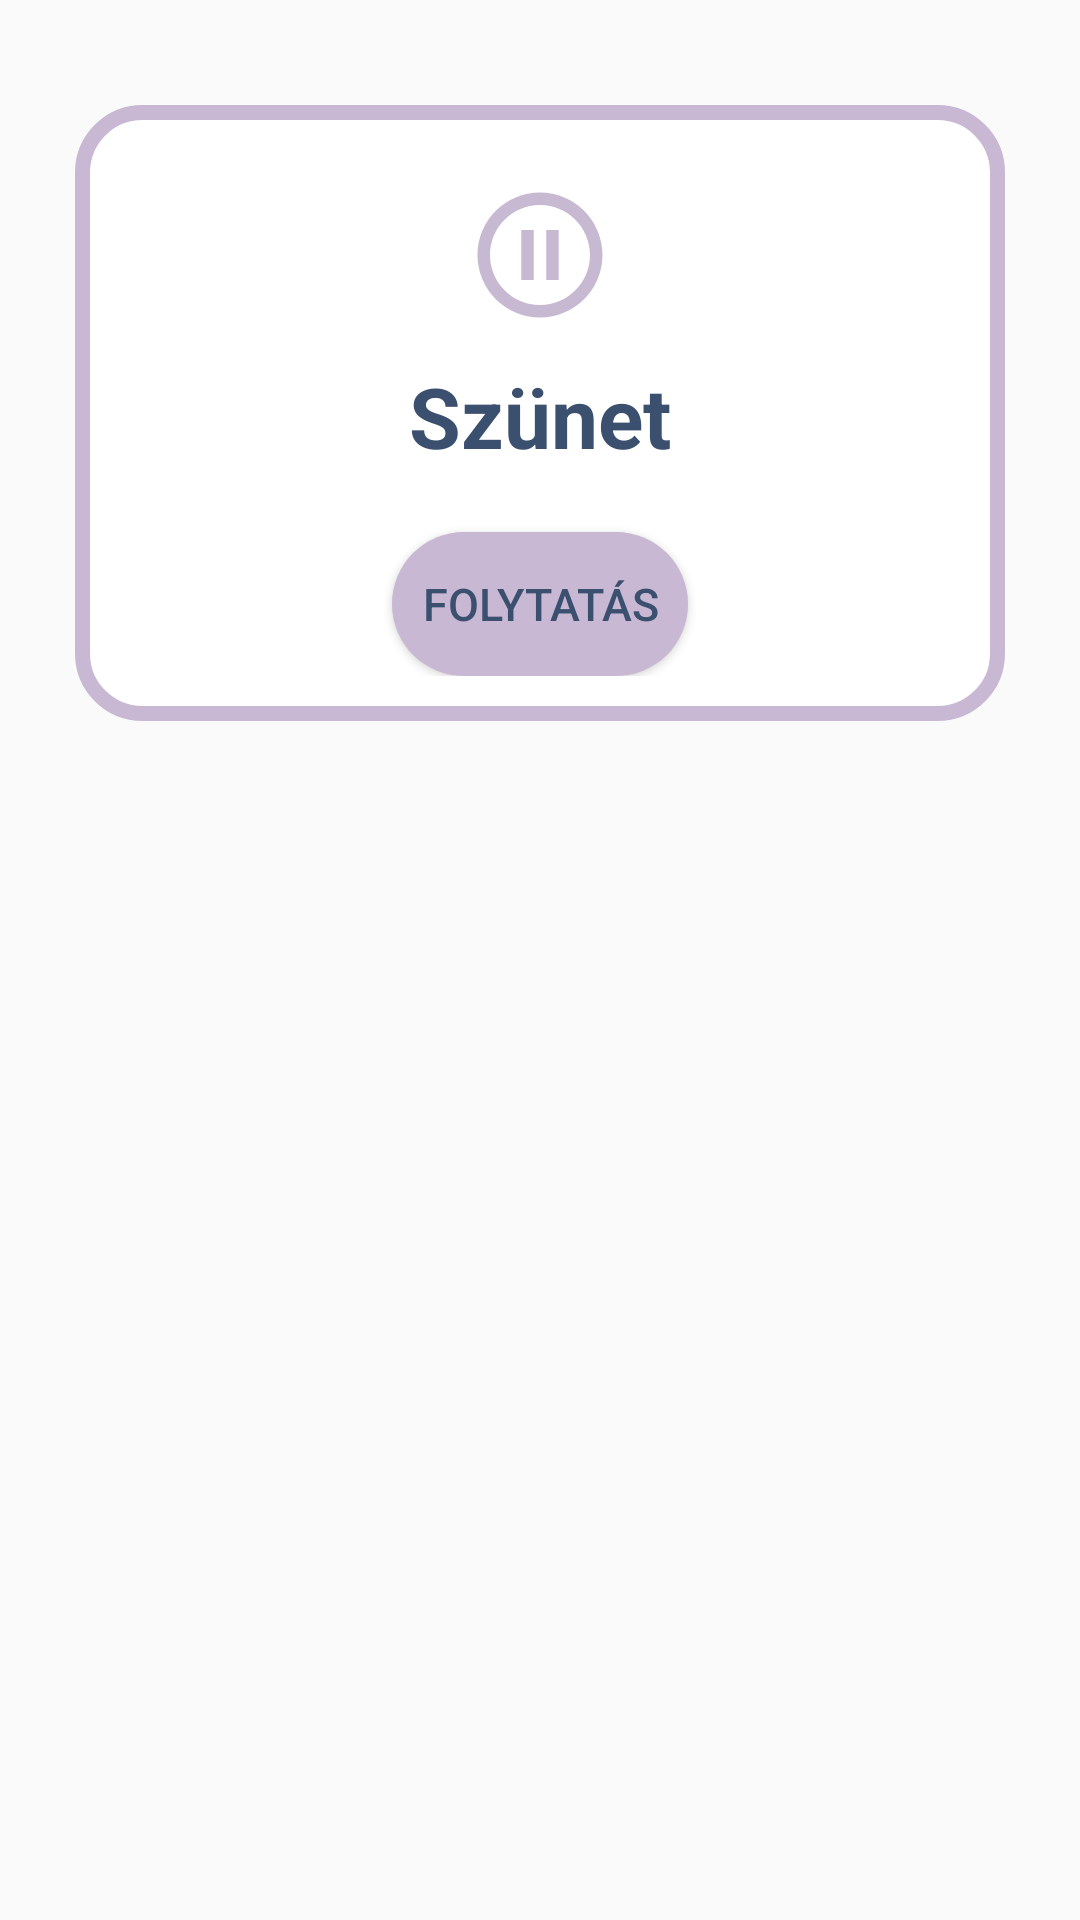

Named icons in this screenshot (1080*1920) and their centers, point (x, y):
pause: point (540, 255)
